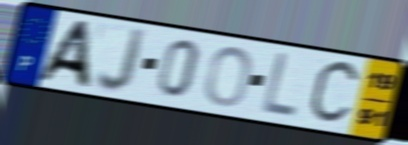0: (156, 37, 203, 101)
A: (31, 18, 95, 91)
C: (305, 58, 363, 128)
J: (94, 25, 149, 96)
L: (259, 49, 299, 121)
O: (203, 44, 255, 109)
